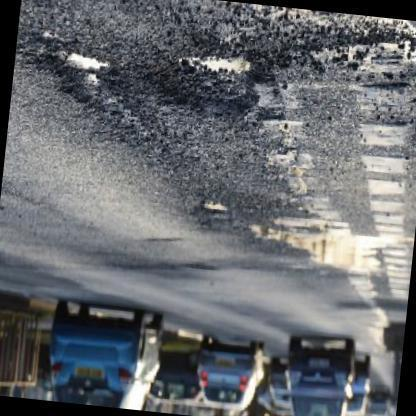pothole: (145, 21, 266, 124), (36, 34, 140, 134)
